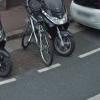Bicycle: (20, 3, 60, 66)
